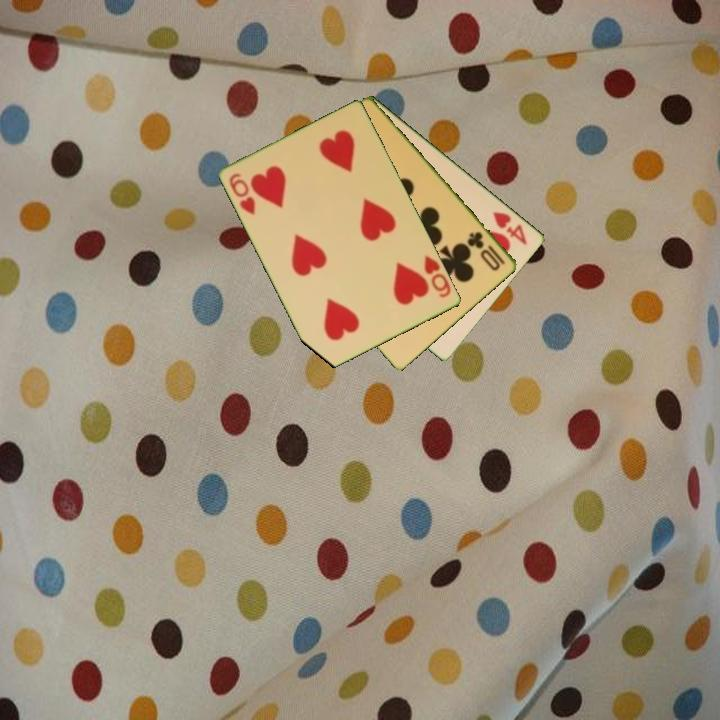10c: (464, 228, 509, 274)
4h: (489, 208, 530, 248)
6h: (421, 252, 454, 301), (226, 169, 259, 218)
